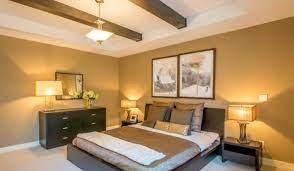bed: (69, 101, 222, 170)
light: (85, 0, 113, 51), (230, 103, 255, 144), (34, 81, 63, 111), (120, 98, 134, 123)
table: (37, 107, 108, 148), (221, 139, 264, 171), (120, 118, 143, 128)
